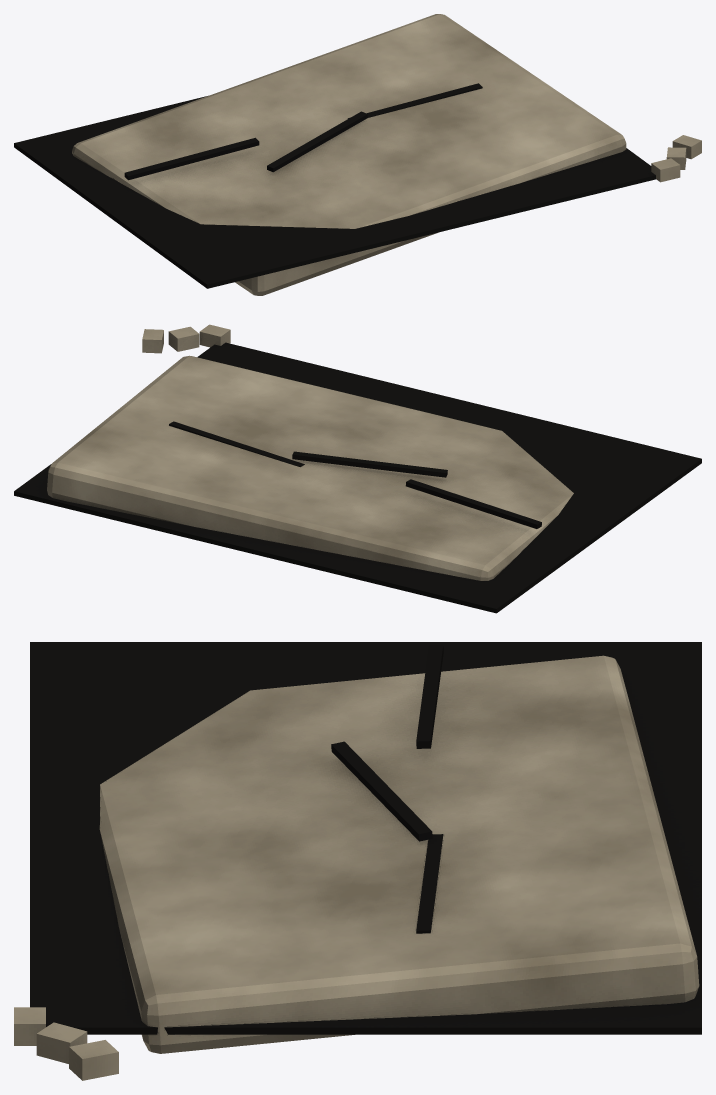
File: trap_siracusa_heavy.glb
The picture shows the model from 3 angles, top to bottom: view 1: azimuth 30°, elevation 25°; view 2: azimuth 150°, elevation 25°; view 3: azimuth 270°, elevation 25°; orthographic projection. The views are drawn at different scales.
Visible parts, largest first — view 1: trap_siracusa_heavy; view 2: trap_siracusa_heavy; view 3: trap_siracusa_heavy.
Boxes of the visible parts, <box> form: trap_siracusa_heavy: <box>14,14,701,295</box>; trap_siracusa_heavy: <box>14,324,701,613</box>; trap_siracusa_heavy: <box>14,642,701,1080</box>.
Bounding box in the file's own units: 1.28 × 0.1673 × 0.86.
2 materials, 2 textured.
